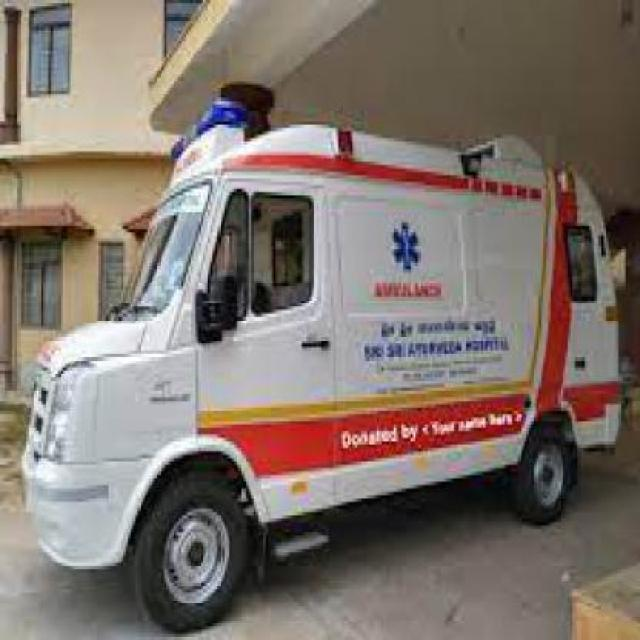Ambulance: (14, 89, 631, 634), (0, 433, 638, 638)
